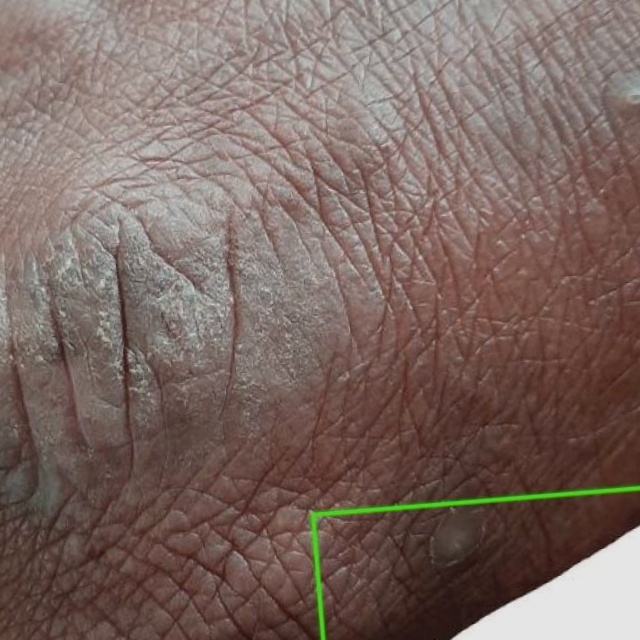Eczema: (312, 487, 639, 639)
